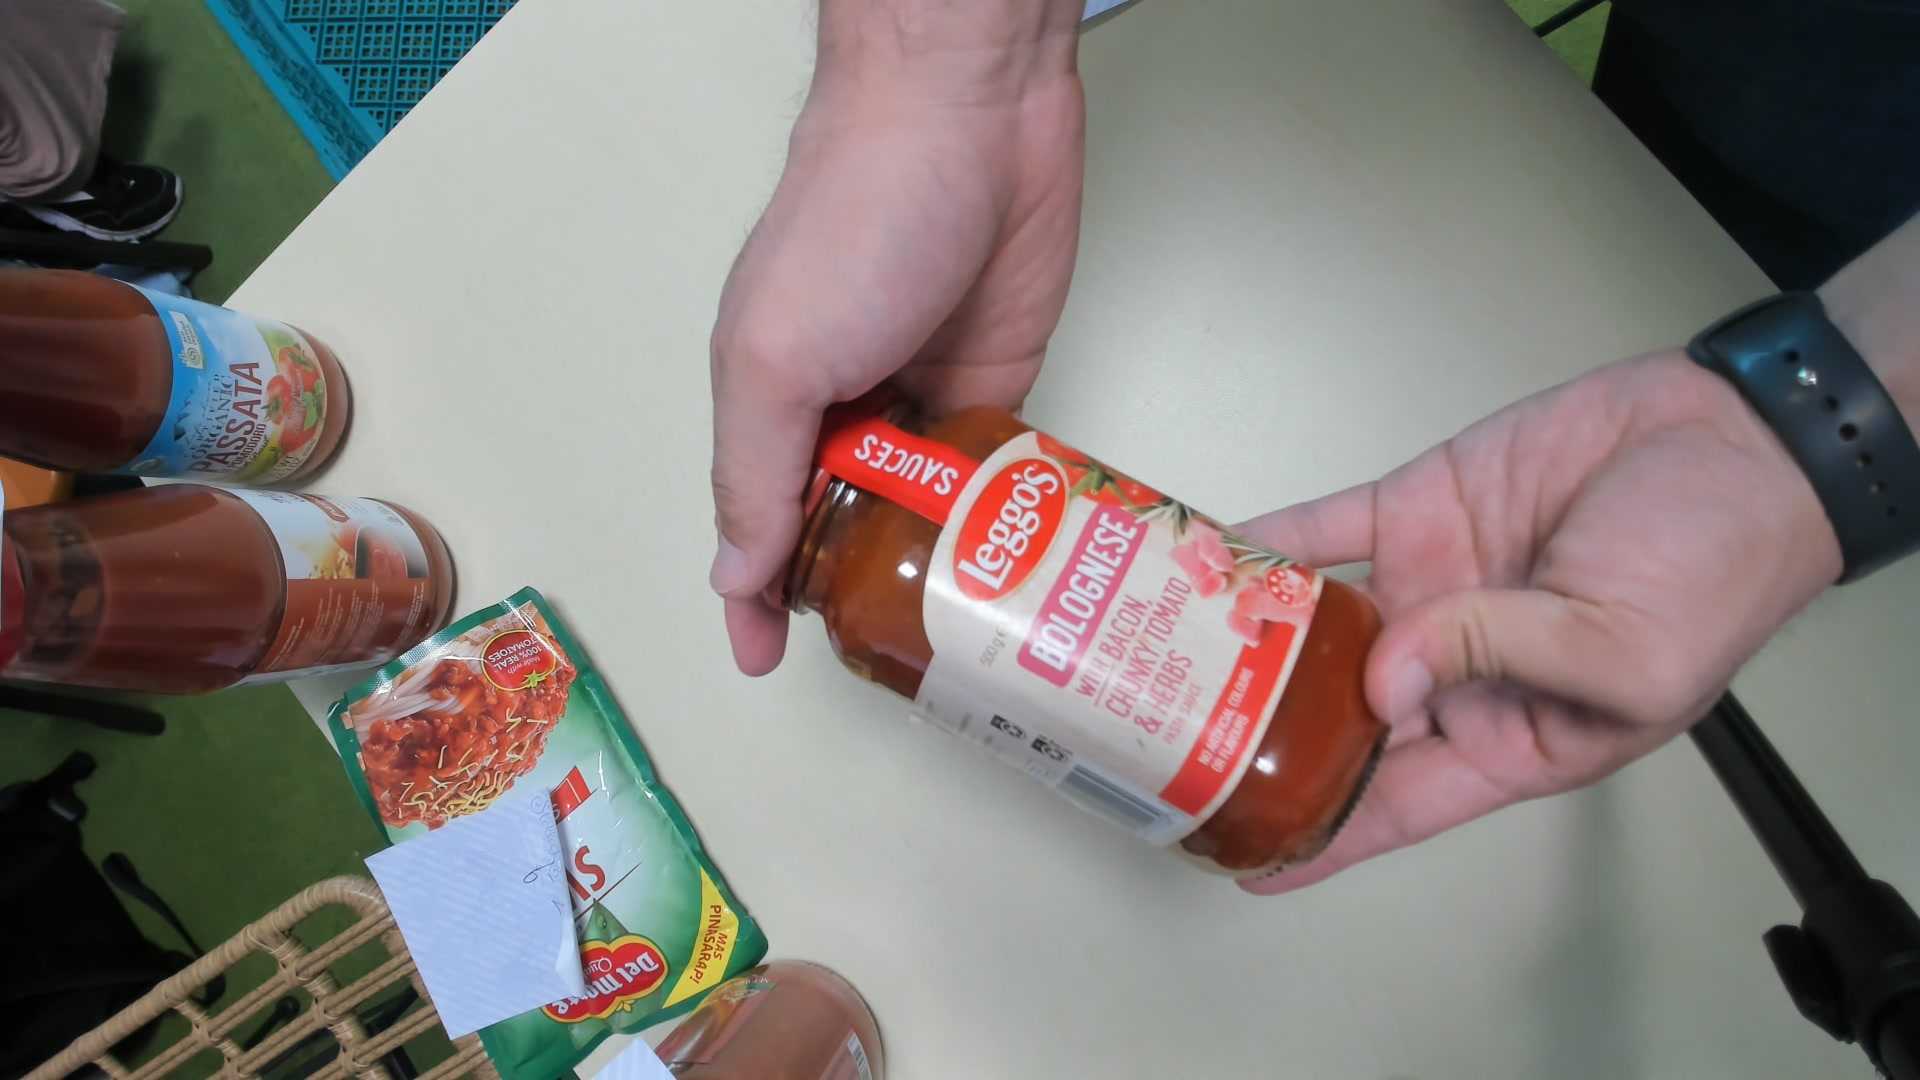PastaSauce_500-599g_Halal_NonHealthy: (767, 389, 1400, 880)
